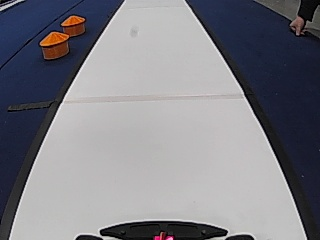granary: (37, 29, 69, 59), (59, 14, 86, 36)
